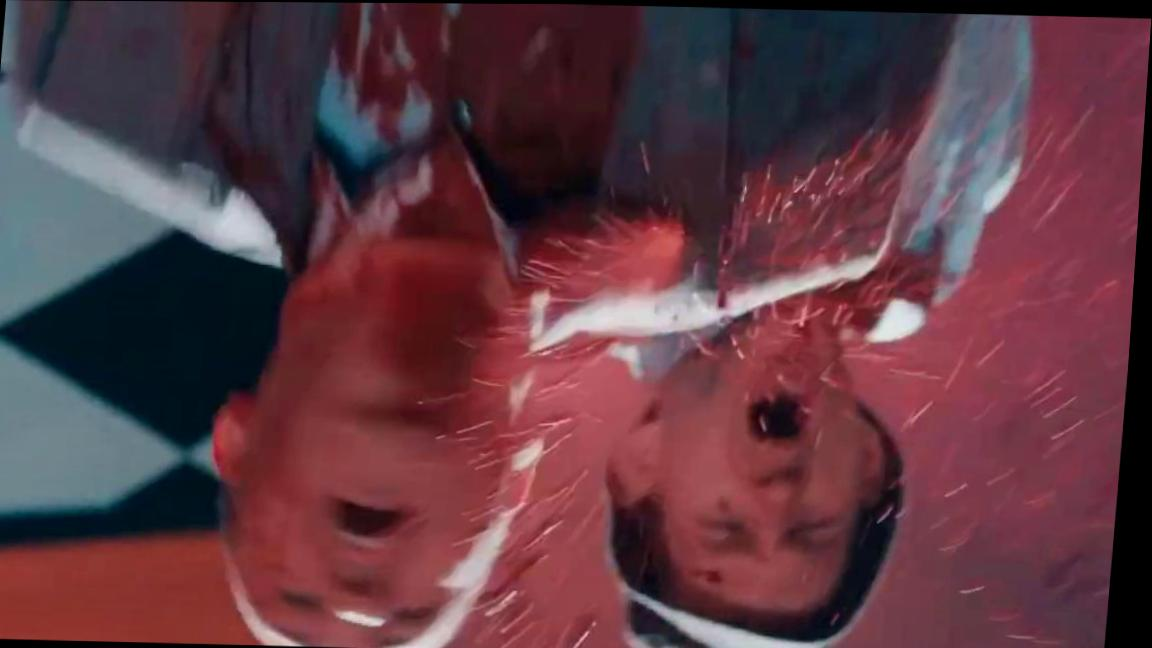Fire: (15, 1, 1151, 648)
